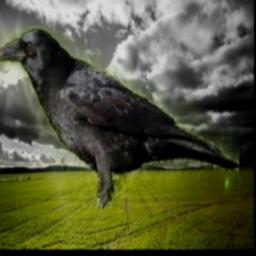Crow: (0, 27, 239, 210)
